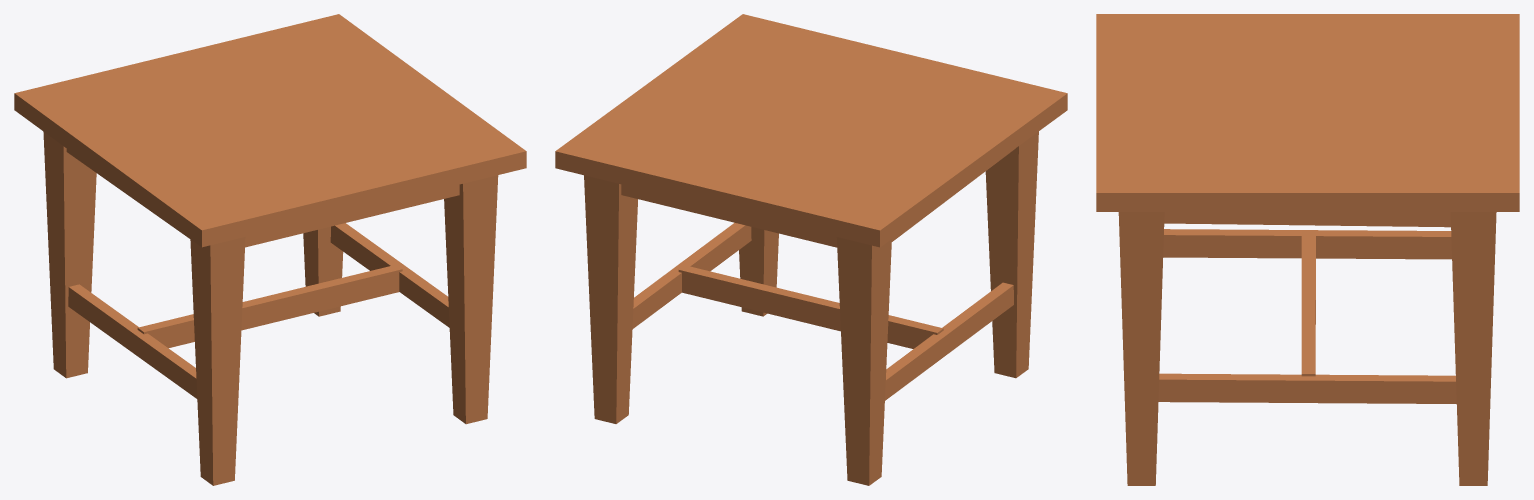
Rendered from table_broken.fbx.
3 views of the same model, side by side, from view 1: azimuth 30°, elevation 25°; view 2: azimuth 150°, elevation 25°; view 3: azimuth 270°, elevation 25° (orthographic). The views are drawn at different scales.
Parts seen in each view (by area): view 1: table_broken_14, table_broken_13, table_broken_01, table_broken_02, table_broken_12, table_broken_04, table_broken_15, table_broken_07, table_broken_06, table_broken_05, table_broken_11, table_broken_03; view 2: table_broken_13, table_broken_14, table_broken_04, table_broken_03, table_broken_12, table_broken_01, table_broken_15, table_broken_07, table_broken_06, table_broken_05, table_broken_10, table_broken_02; view 3: table_broken_13, table_broken_14, table_broken_15, table_broken_12, table_broken_02, table_broken_03, table_broken_05, table_broken_06, table_broken_09, table_broken_07.
Part boxes in pixels (box(x1,y1,x2,y2)): table_broken_14: box(149, 128, 526, 247); table_broken_13: box(14, 14, 409, 128); table_broken_01: box(190, 237, 245, 485); table_broken_02: box(444, 175, 498, 424); table_broken_12: box(35, 118, 280, 217); table_broken_04: box(43, 131, 96, 378); table_broken_15: box(281, 66, 508, 138); table_broken_07: box(137, 264, 402, 348); table_broken_06: box(68, 284, 197, 398); table_broken_05: box(330, 223, 449, 327); table_broken_11: box(245, 184, 459, 247); table_broken_03: box(303, 226, 343, 316); table_broken_13: box(555, 99, 913, 247); table_broken_14: box(726, 14, 1067, 139); table_broken_04: box(836, 237, 891, 485); table_broken_03: box(584, 175, 637, 423); table_broken_12: box(819, 115, 1026, 232); table_broken_01: box(985, 131, 1038, 378); table_broken_15: box(626, 26, 818, 115); table_broken_07: box(678, 265, 943, 348); table_broken_06: box(885, 282, 1013, 400); table_broken_05: box(632, 222, 751, 328); table_broken_10: box(621, 184, 837, 247); table_broken_02: box(739, 227, 778, 316); table_broken_13: box(1288, 14, 1519, 211); table_broken_14: box(1096, 14, 1287, 211); table_broken_15: box(1135, 104, 1359, 211); table_broken_12: box(1215, 14, 1442, 103); table_broken_02: box(1118, 212, 1164, 485); table_broken_03: box(1450, 212, 1496, 485); table_broken_05: box(1158, 373, 1456, 403); table_broken_06: box(1163, 229, 1451, 259); table_broken_09: box(1164, 212, 1450, 227); table_broken_07: box(1301, 231, 1315, 376).
Bounding box in the file's own units: 120 × 96 × 120.
Materials: 1 (1 with a texture image).
